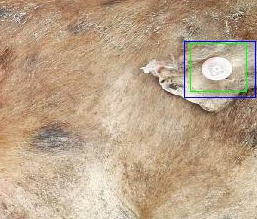text: (190, 43, 246, 91)
